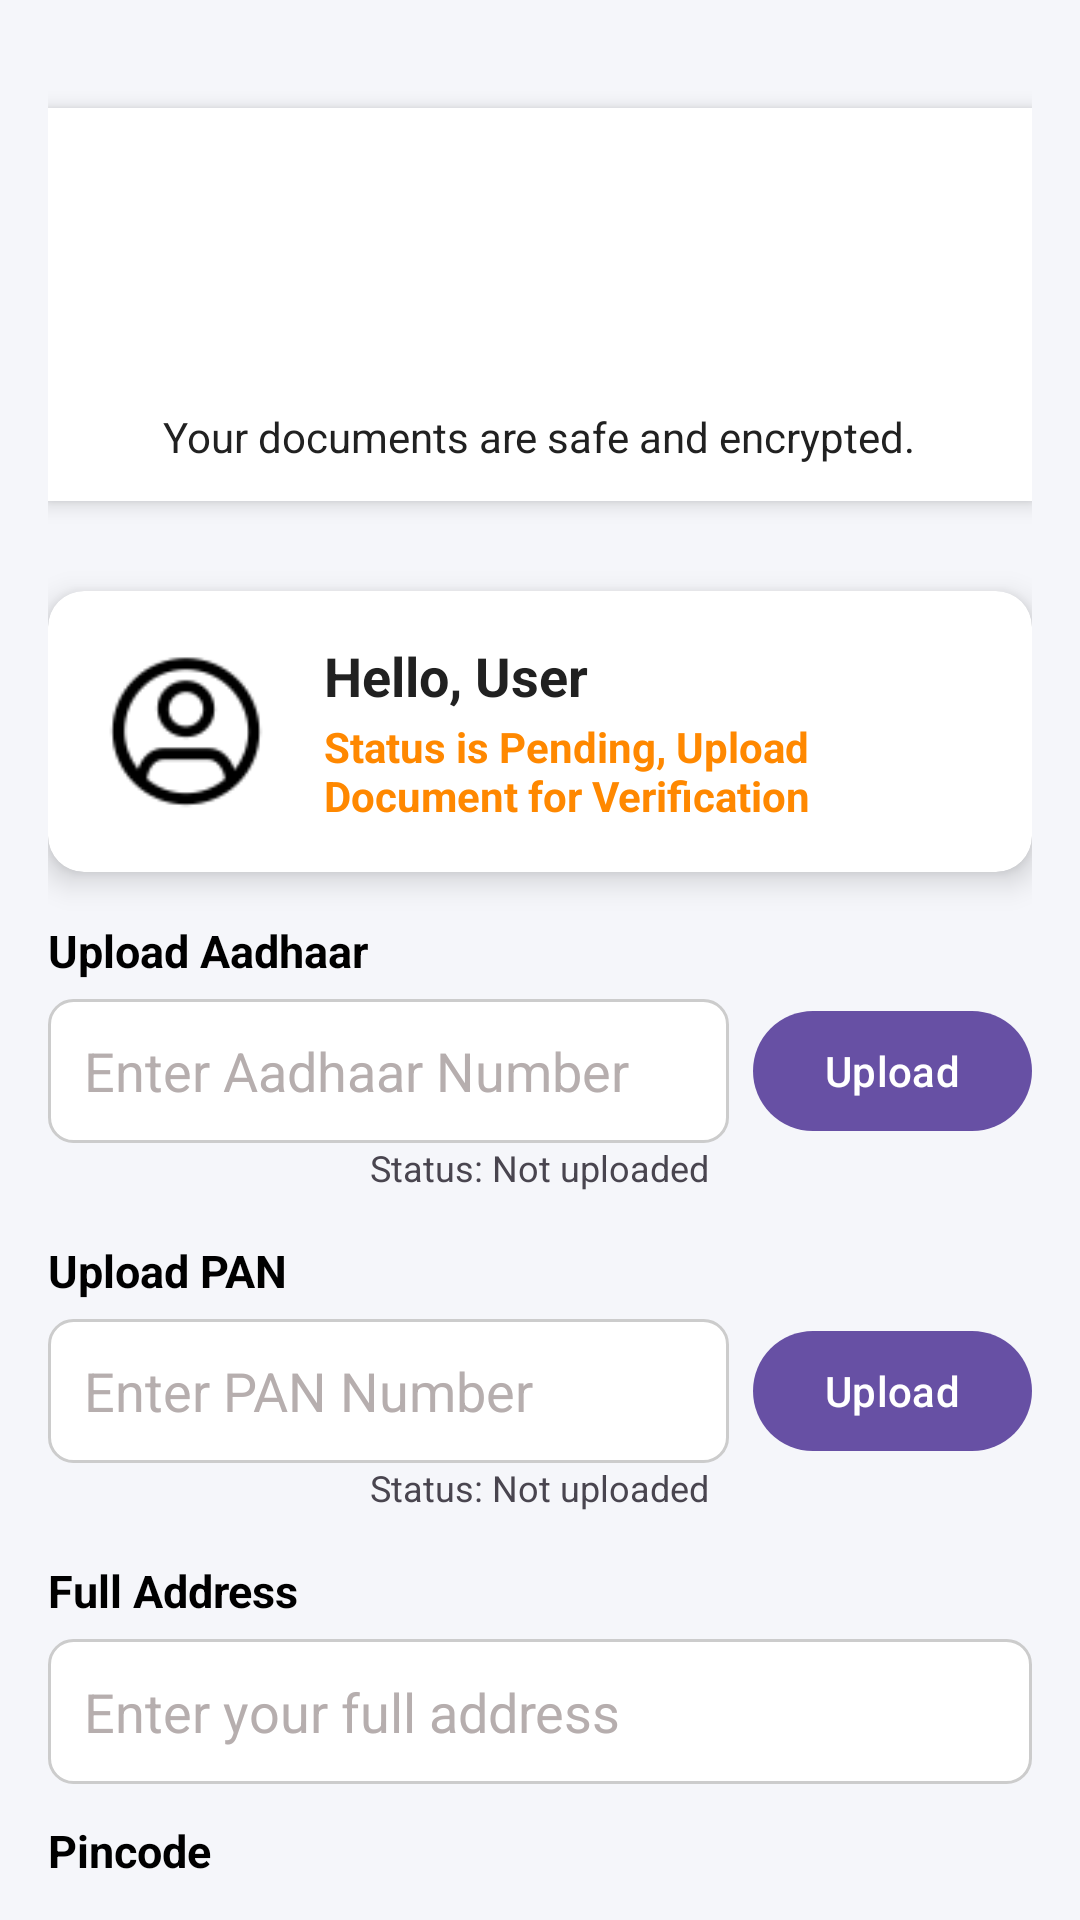

Icon bounding boxes for this 1080 × 1920 phone screenshot, format (x1, y1, x2, y2):
Profile: (111, 657, 261, 806)
